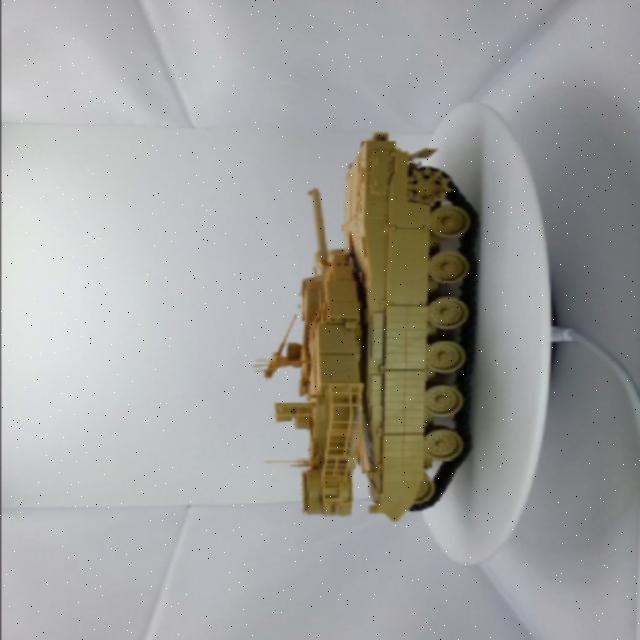korea tank: (244, 110, 496, 536)
